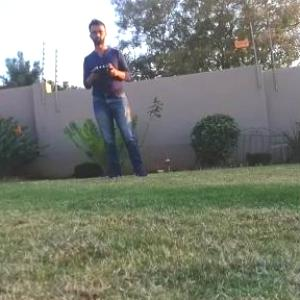follow: (80, 13, 155, 183)
